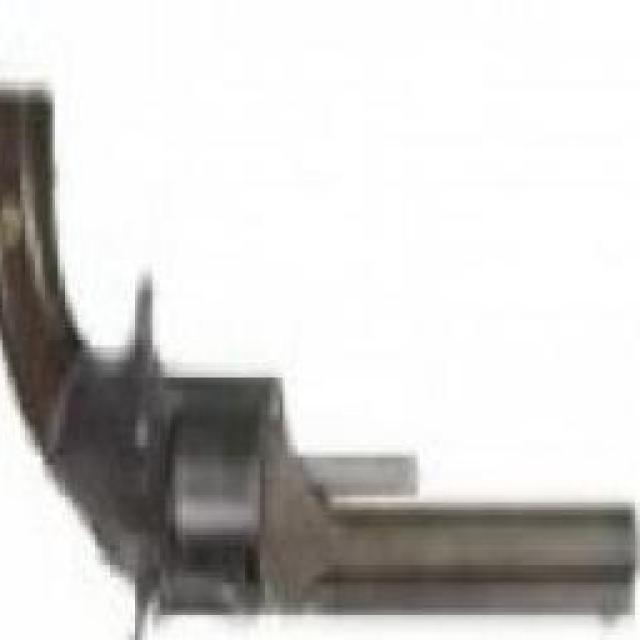pistol: (0, 95, 638, 640)
